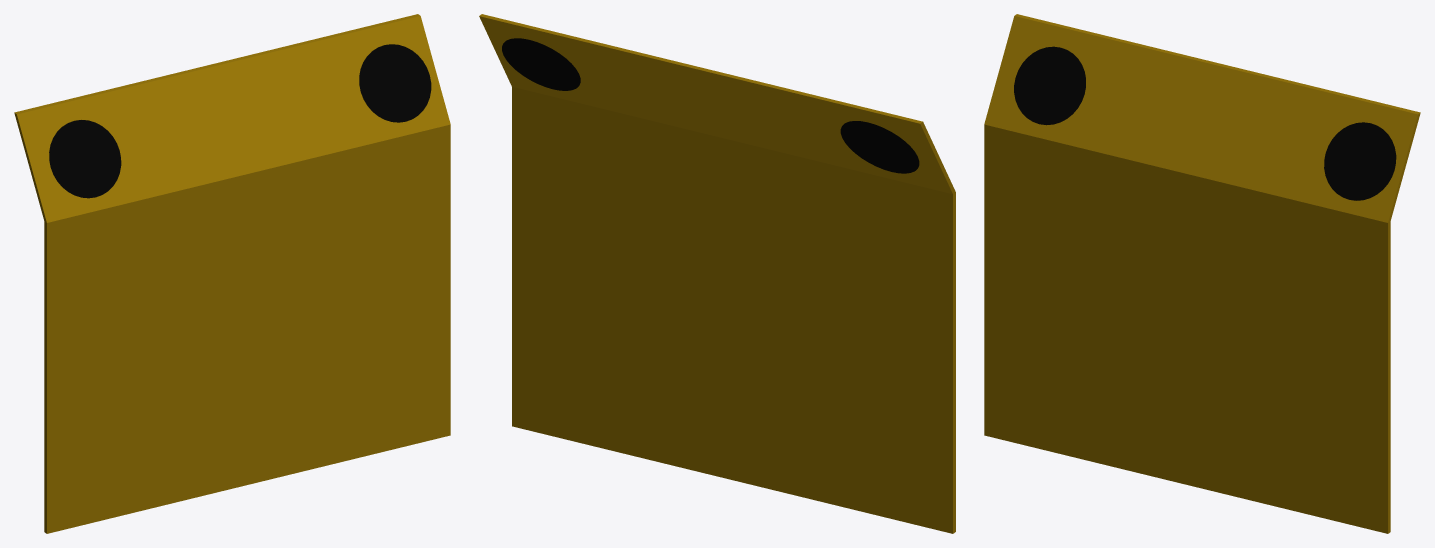
File: lbscr-weatherboard.dae
3 views of the same model, side by side, from view 1: azimuth 30°, elevation 25°; view 2: azimuth 150°, elevation 25°; view 3: azimuth 330°, elevation 25° (orthographic). The views are drawn at different scales.
Parts seen in each view (by area): view 1: Cube_025_002, Cylinder_012, Cylinder_013; view 2: Cube_025_002, Cylinder_014, Cylinder_015; view 3: Cube_025_002, Cylinder_012, Cylinder_013.
Part boxes in pixels (left/top/right/bottom): Cube_025_002: left=14, top=14, right=450, bottom=533; Cylinder_012: left=359, top=44, right=431, bottom=122; Cylinder_013: left=49, top=120, right=121, bottom=198; Cube_025_002: left=479, top=14, right=955, bottom=533; Cylinder_014: left=840, top=121, right=919, bottom=173; Cylinder_015: left=502, top=38, right=580, bottom=90; Cube_025_002: left=984, top=14, right=1420, bottom=533; Cylinder_012: left=1324, top=122, right=1396, bottom=200; Cylinder_013: left=1014, top=46, right=1085, bottom=125.
Bounding box in the file's own units: 1.33 × 0.1867 × 1.25.
